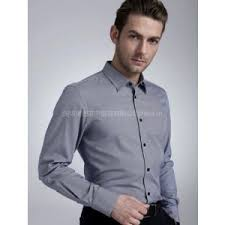F_shirt: (37, 59, 188, 216)
